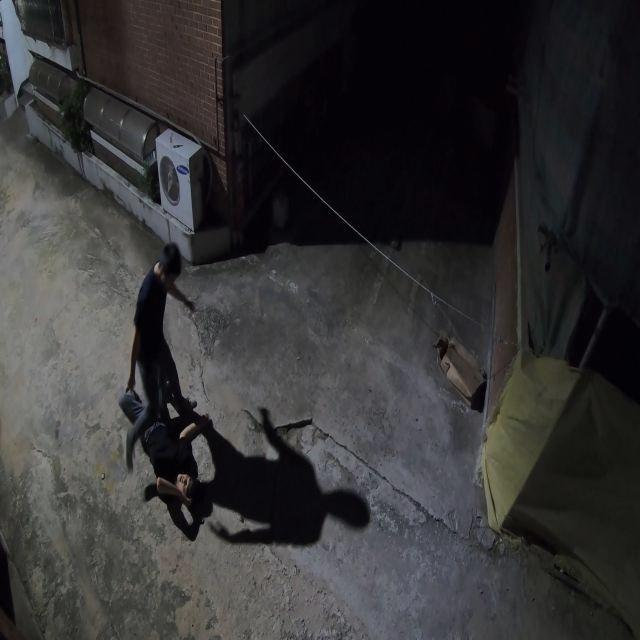fight: (121, 241, 221, 532)
